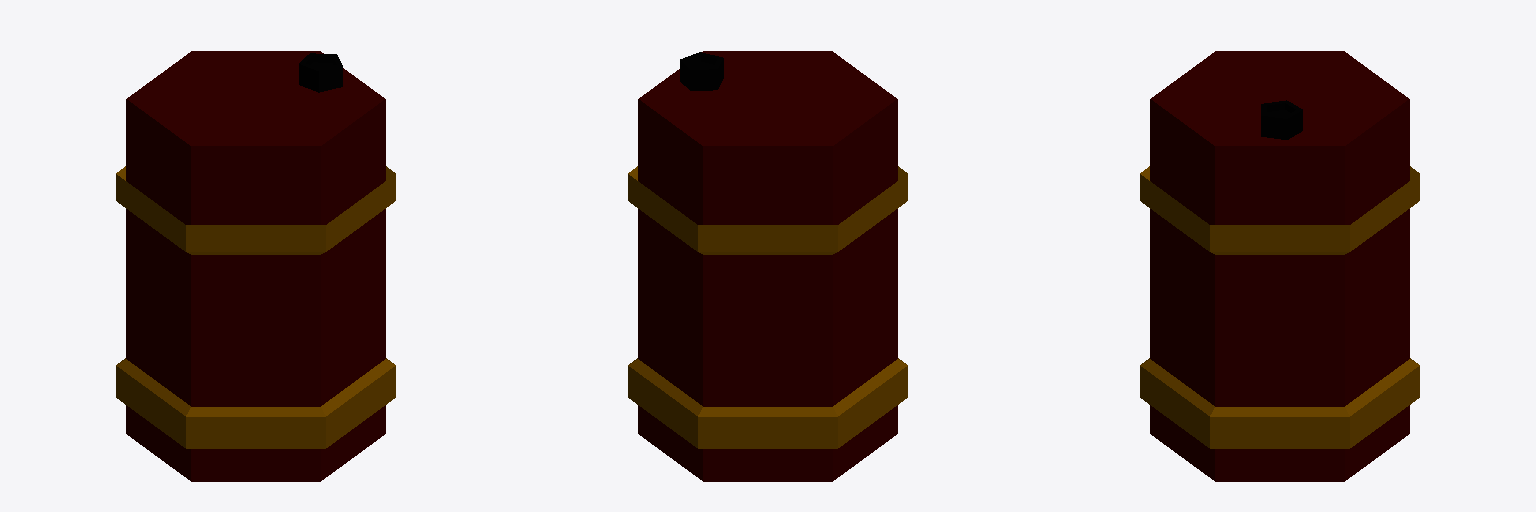
The model's file is Explosive_Barrel.obj.
The picture shows the model from 3 angles: view 1: azimuth 30°, elevation 25°; view 2: azimuth 150°, elevation 25°; view 3: azimuth 270°, elevation 25°; orthographic projection.
Parts seen in each view (by area): view 1: Explosive_Barrel_Cylinder.003; view 2: Explosive_Barrel_Cylinder.003; view 3: Explosive_Barrel_Cylinder.003.
Boxes of the visible parts, x1,y1,x2,y2 form: Explosive_Barrel_Cylinder.003: [116, 51, 395, 481]; Explosive_Barrel_Cylinder.003: [628, 51, 907, 481]; Explosive_Barrel_Cylinder.003: [1140, 51, 1419, 481].
Size of the model in its own units: 0.9613 by 1.56 by 1.11.